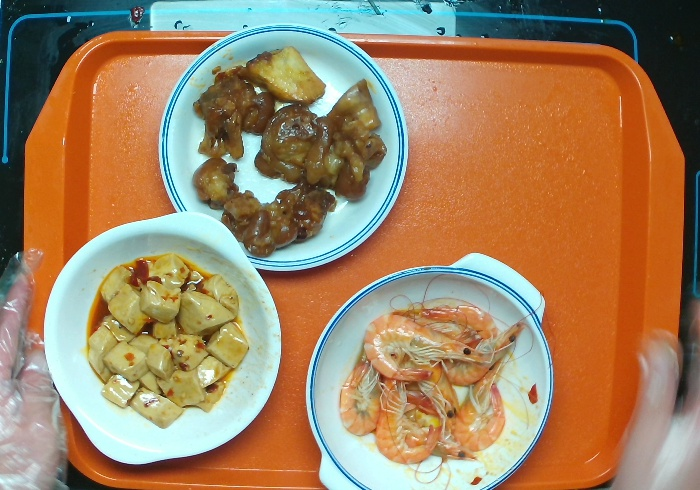HZYJPL-Dai_Er_Bai_Yuan_Wan: (38, 201, 293, 476)
HZYJPL-Lan_Bian_Dai_Er_Wan: (297, 247, 557, 490)
HZYJPL-Lan_Bian_Yuan_Die: (153, 14, 417, 280)
